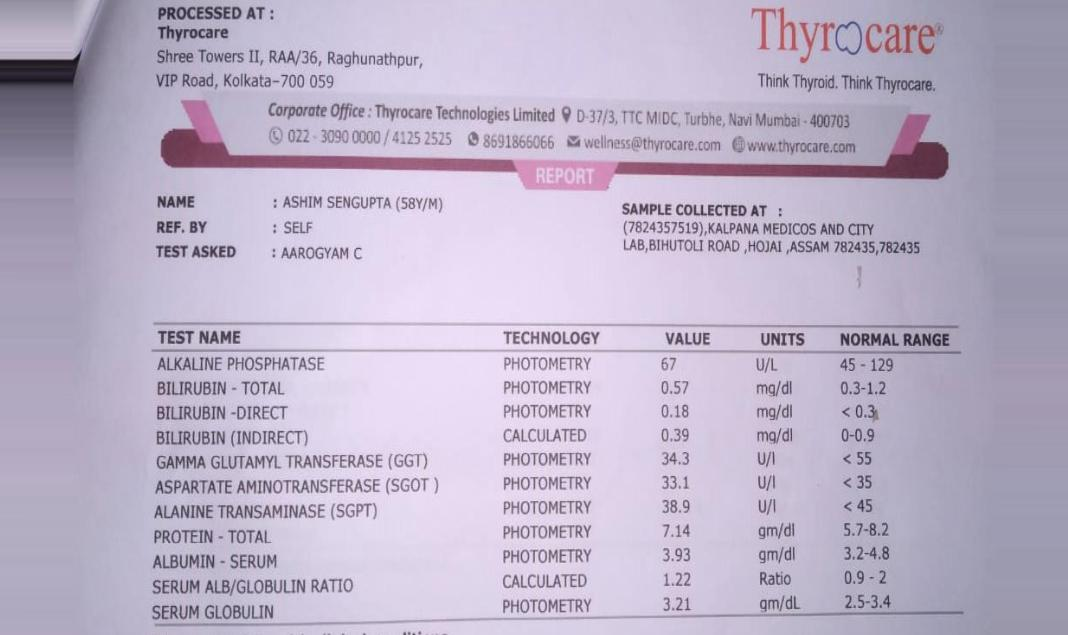Reference Range: (831, 352, 910, 614)
Test Name: (145, 351, 444, 625)
Units: (747, 351, 814, 616)
Value: (651, 350, 709, 617)
